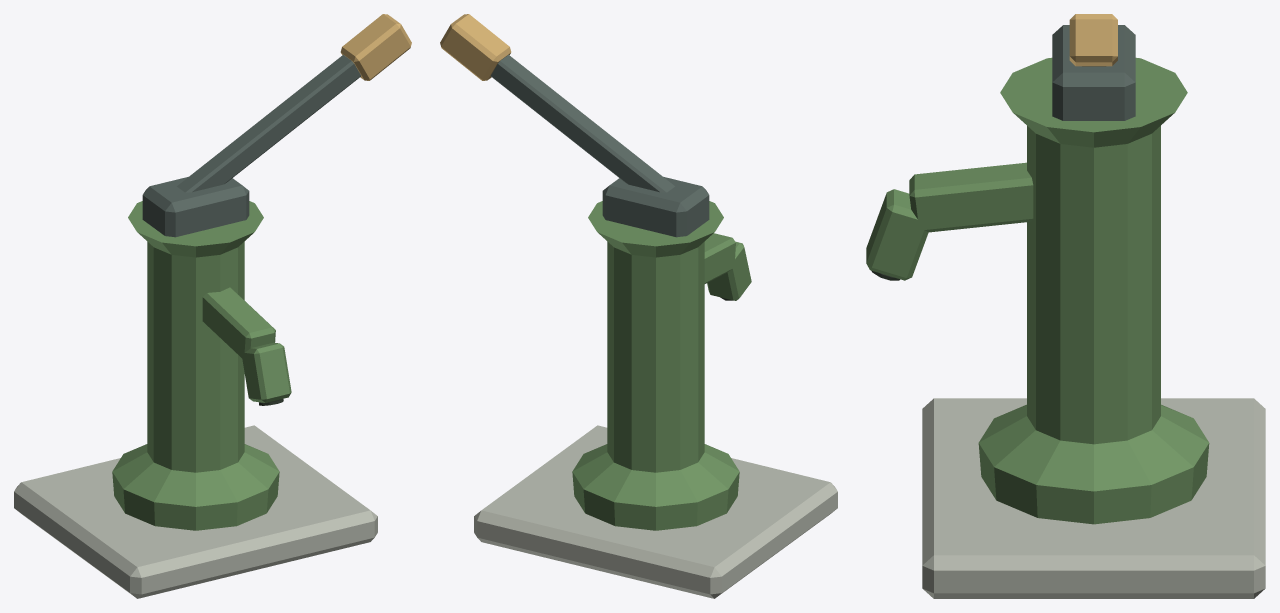
The model's file is 03_Irrigation_Pump.glb.
3 renders of one model, left to right at view 1: azimuth 30°, elevation 25°; view 2: azimuth 150°, elevation 25°; view 3: azimuth 270°, elevation 25°, orthographic. The views are drawn at different scales.
Parts seen in each view (by area): view 1: 03_Irrigation_Pump__Body; view 2: 03_Irrigation_Pump__Body; view 3: 03_Irrigation_Pump__Body.
Part boxes in pixels (bbox=[...]): 03_Irrigation_Pump__Body: bbox=[14, 14, 411, 598]; 03_Irrigation_Pump__Body: bbox=[440, 14, 837, 598]; 03_Irrigation_Pump__Body: bbox=[866, 14, 1265, 598].
Bounding box in the file's own units: 1.98 × 2.62 × 1.49.
Materials: 1 (1 with a texture image).
